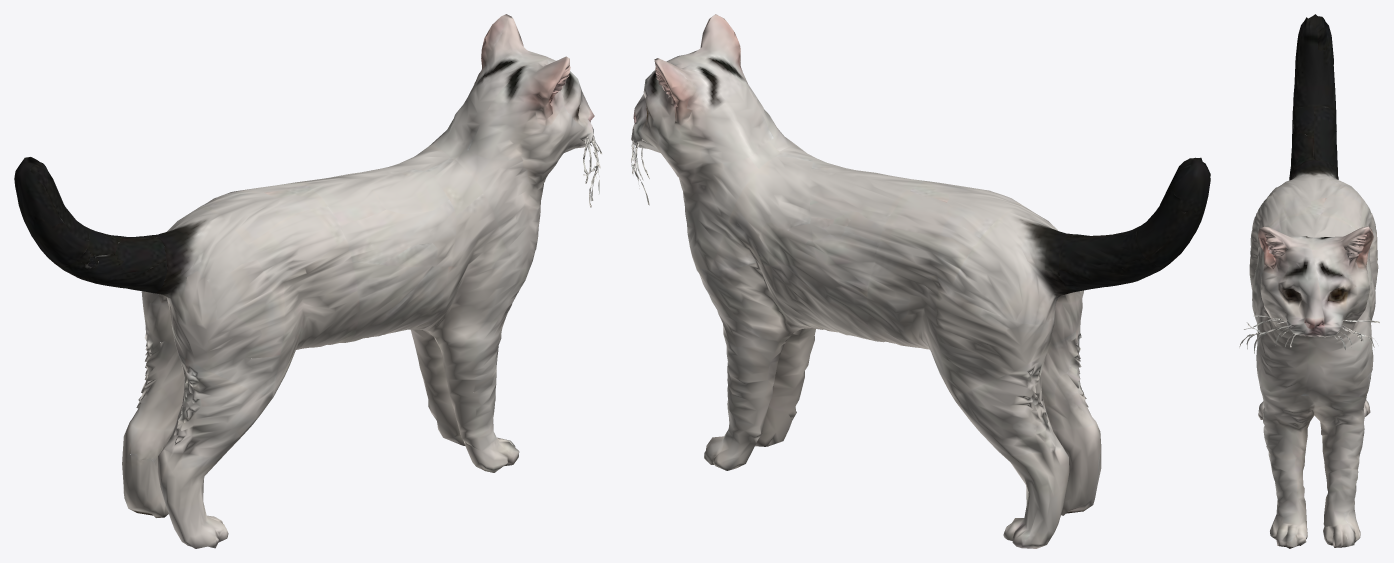
File: SAMBROWS-lo.glb
3 views of the same model, side by side, from view 1: azimuth 30°, elevation 25°; view 2: azimuth 150°, elevation 25°; view 3: azimuth 270°, elevation 25° (orthographic). The views are drawn at different scales.
Parts seen in each view (by area): view 1: tripo_node_d7df31a5-1f29-48ab-ad77-9ddfb50287e2; view 2: tripo_node_d7df31a5-1f29-48ab-ad77-9ddfb50287e2; view 3: tripo_node_d7df31a5-1f29-48ab-ad77-9ddfb50287e2.
Part boxes in pixels (x1,y1,x2,y2): tripo_node_d7df31a5-1f29-48ab-ad77-9ddfb50287e2: [14, 14, 601, 548]; tripo_node_d7df31a5-1f29-48ab-ad77-9ddfb50287e2: [631, 14, 1210, 548]; tripo_node_d7df31a5-1f29-48ab-ad77-9ddfb50287e2: [1239, 14, 1379, 548].
Bounding box in the file's own units: 1.48 × 0.9973 × 0.3709.
Materials: 1 (1 with a texture image).
